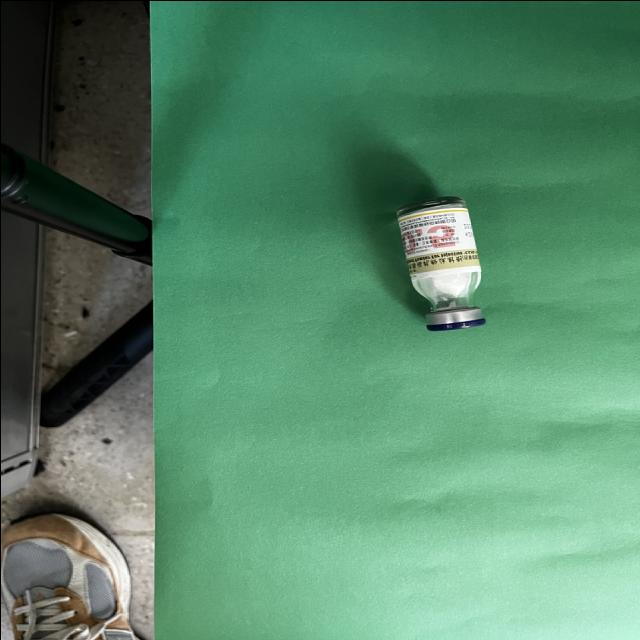Vials: (395, 196, 484, 330)
